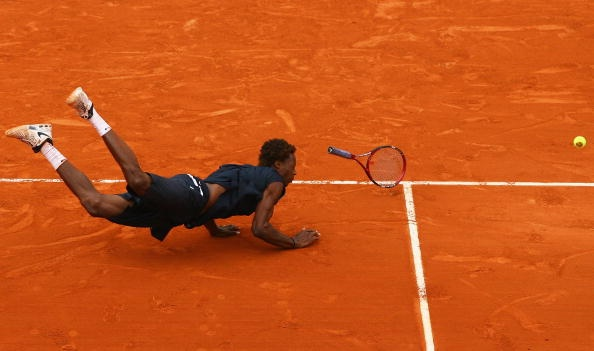falling: (9, 85, 330, 259)
